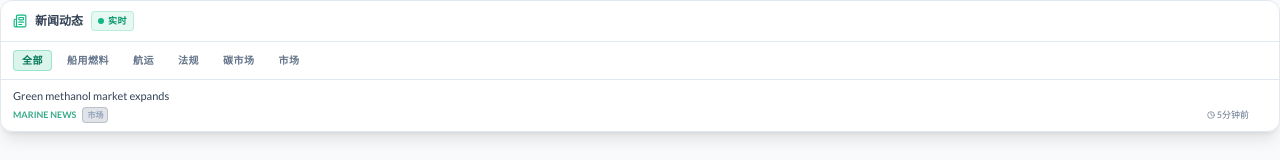
Test case: NewsFeed Chinese localization › localizes chrome and filter failures while preserving article metadata and API codes
Expected: the heading "新闻动态" is shown, 35,13 -> 83,29
Expected: the text "Green methanol market expands" is shown, 13,88 -> 169,102
Click the button "航运" at (144, 60), box 124,50 -> 163,70
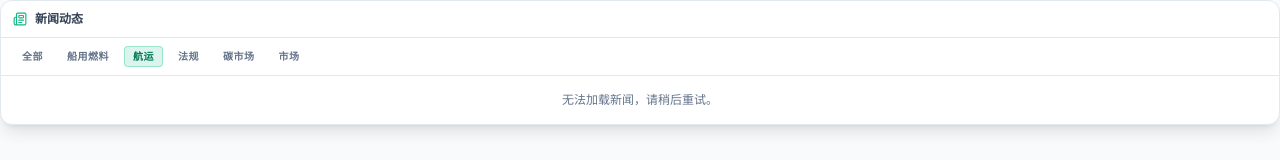
Now the message shows "无法加载新闻", box 562,92 -> 718,107
Now the link "Green methanol market expands" is gone
